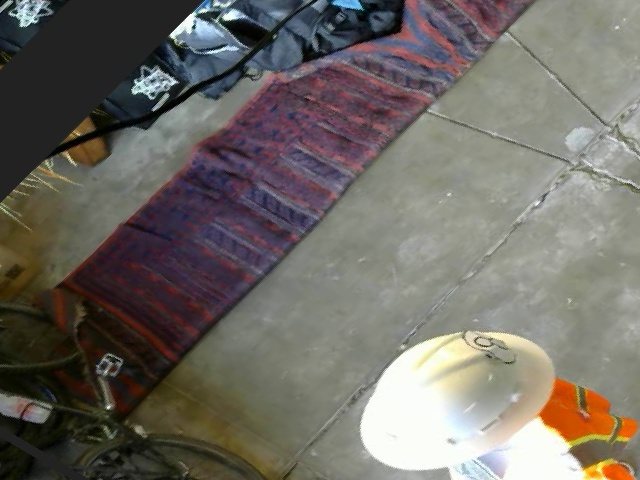eight: (451, 320, 526, 373)
